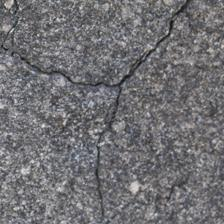Crack: (1, 11, 80, 148), (8, 54, 82, 168), (65, 40, 131, 81)
